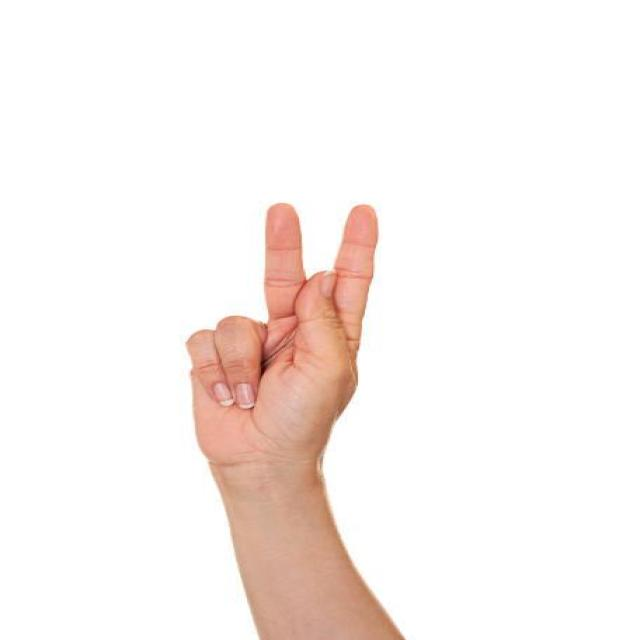K: (178, 192, 386, 470)
